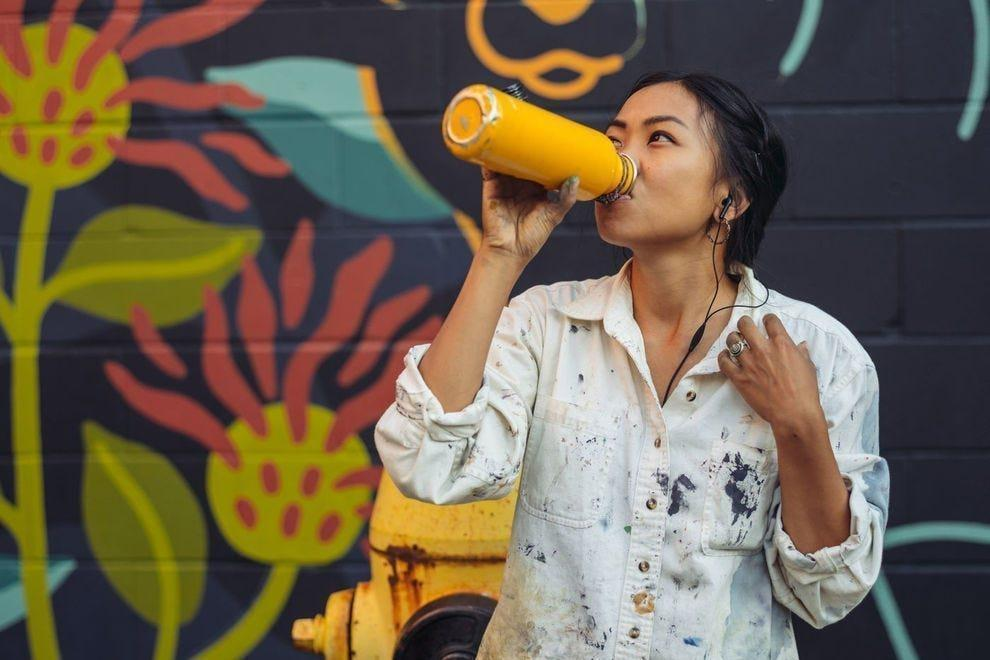gym bottle: (442, 83, 634, 206)
